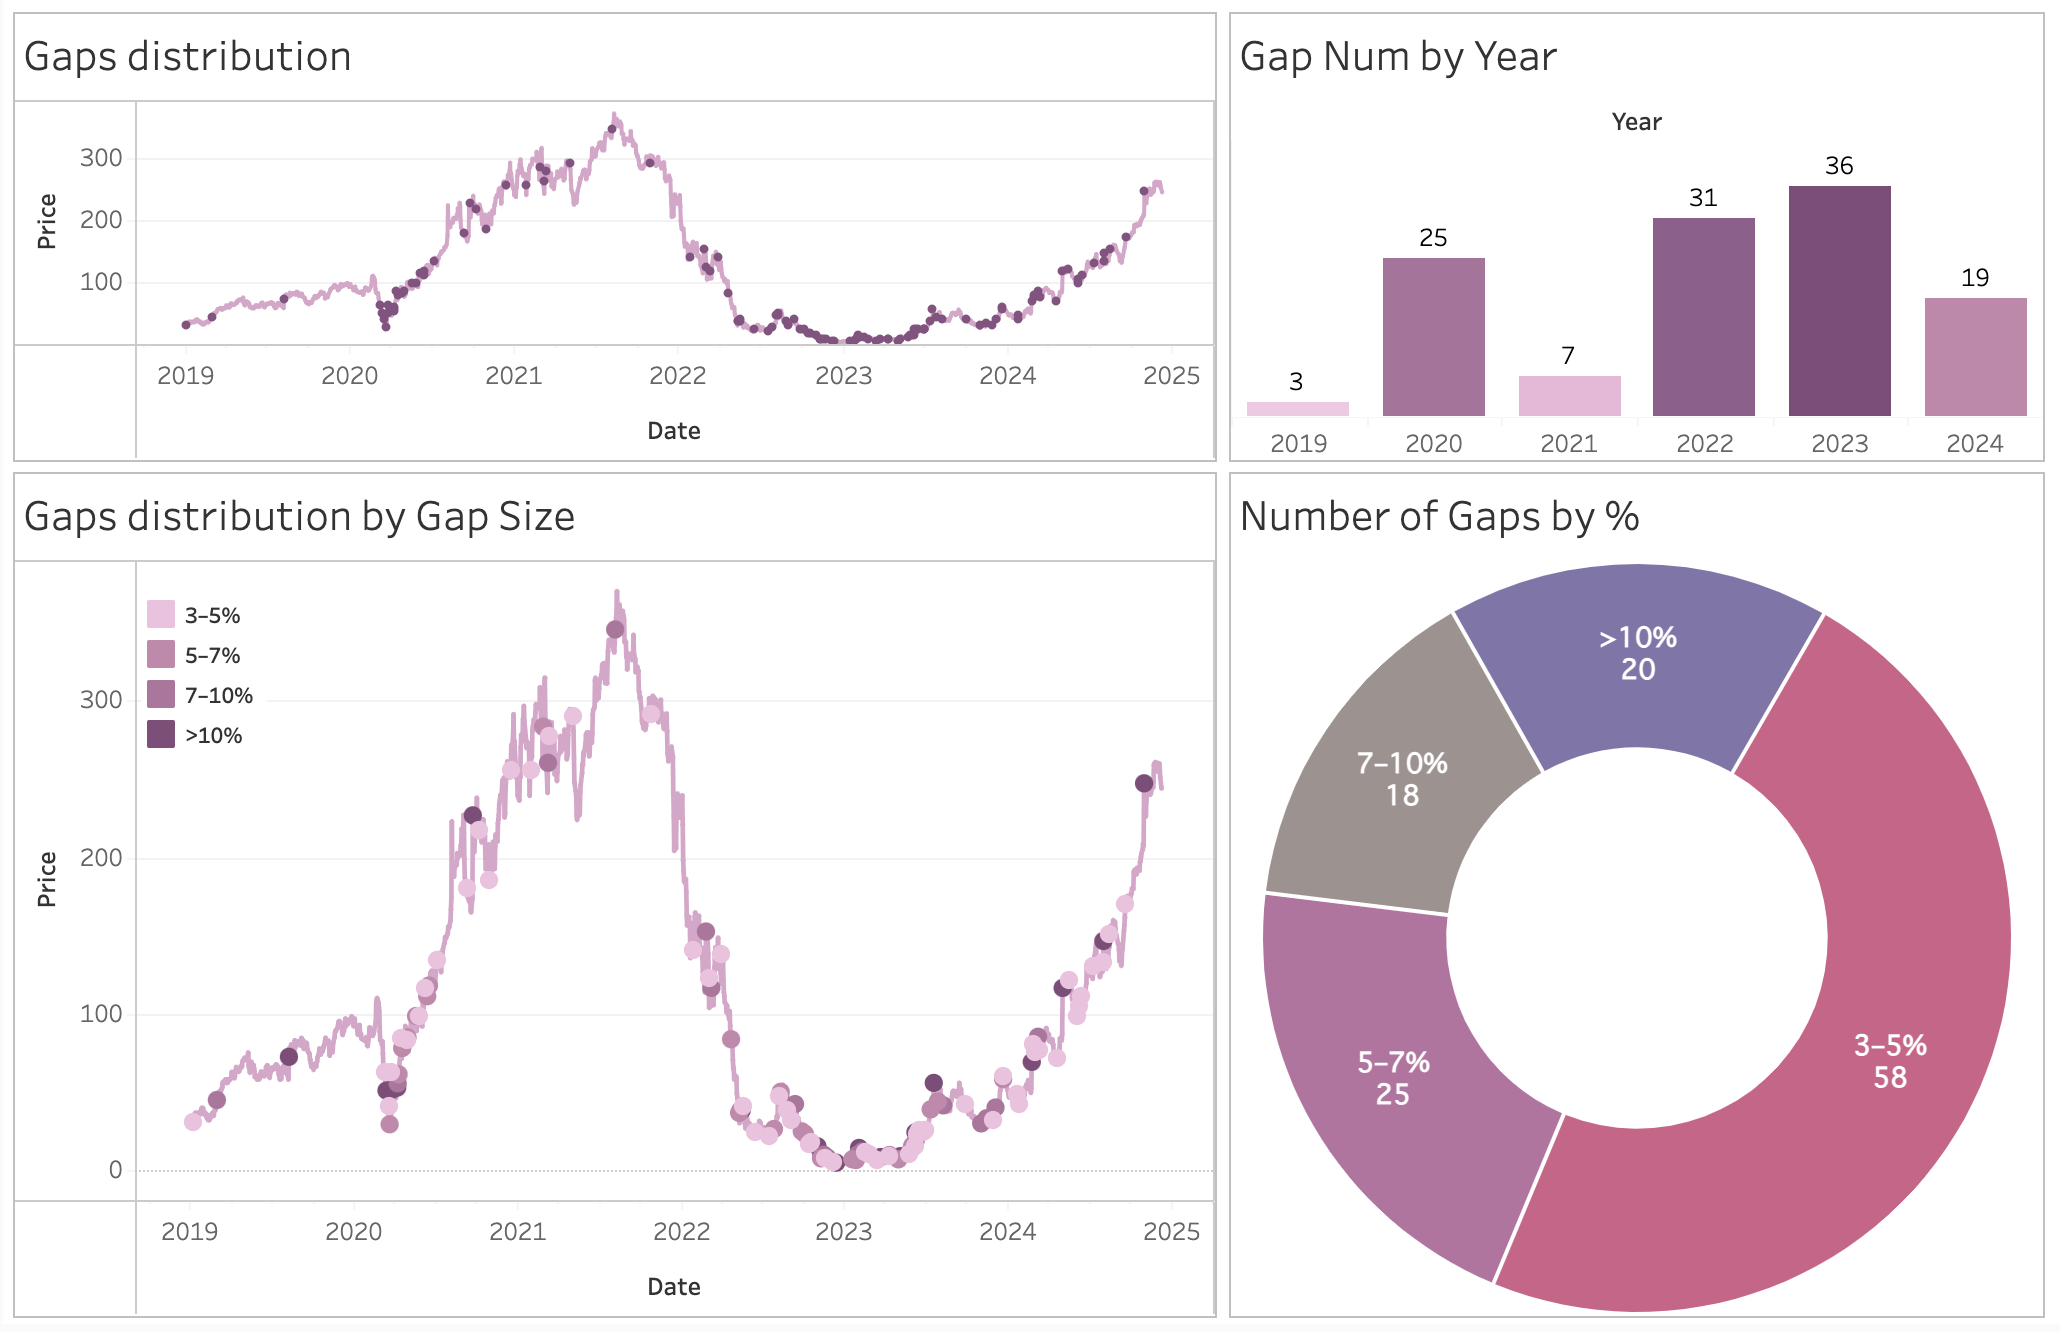

The dashboard page shown, as its layout file describes it:
{"tool":"tableau","page":{"name":"Dashboard 1","canvas":[1029,663],"ordinal":0},"visuals":[{"type":"worksheet","title":"GapsDistribution","mark":"Line","rows":["close","close (gaps_3pct.csv)"],"cols":["date"],"box":[5,7,602,225]},{"type":"worksheet","title":"GapsByYear","mark":"Bar","rows":["num_gaps"],"cols":["year"],"box":[613,7,408,225]},{"type":"worksheet","title":"GapSBySize","mark":"Line","rows":["close","close (gaps_3pct.csv)"],"cols":["date"],"box":[5,237,602,423]},{"type":"worksheet","title":"Total Num By Gap%","box":[613,237,408,423]},{"type":"legend","title":"GapSBySize","param":"[federated.1eipbxz1dnwxmd10onnb914xekxi].[none:gap_bucket (gaps_3pct.csv):nk]","box":[69,284,63,100]}]}

Visuals, with their boxes in screenshot pixels (x1, y1, x2, y2), scaled from the page's 1029x663 canvas onto the 2060x1332 screenshot:
"GapsDistribution" worksheet (Line marks): 10, 14, 1215, 466
"GapsByYear" worksheet (Bar marks): 1227, 14, 2044, 466
"GapSBySize" worksheet (Line marks): 10, 476, 1215, 1326
"Total Num By Gap%" worksheet: 1227, 476, 2044, 1326
"GapSBySize" legend: 138, 571, 264, 771
